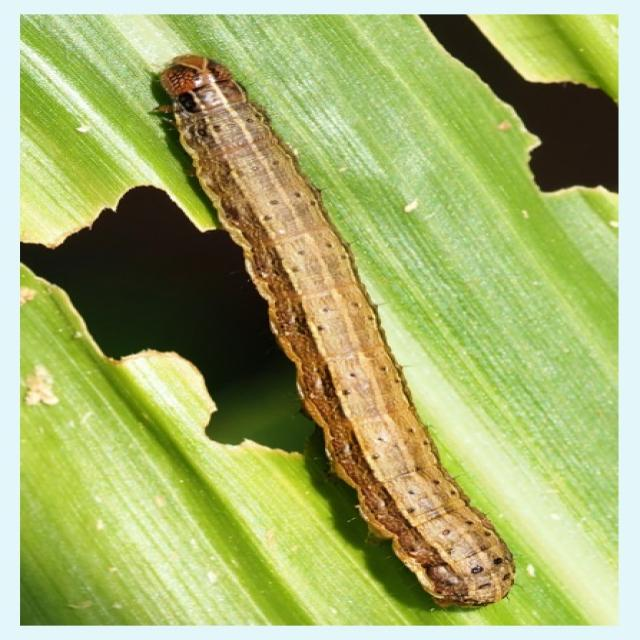Fall-armyworm: (126, 44, 541, 607)
